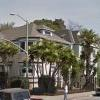Tree: (31, 41, 72, 94)
